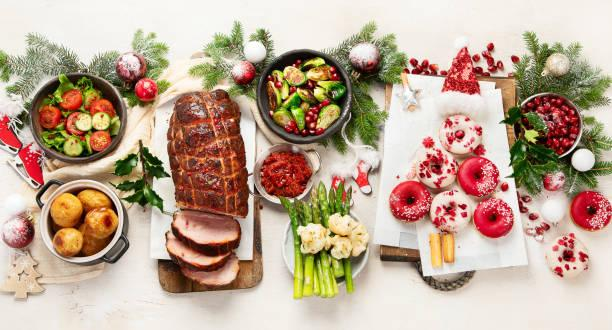Braised Crucian Carp: (375, 74, 524, 278), (149, 94, 253, 261), (256, 49, 353, 144), (28, 73, 126, 163), (35, 177, 129, 265), (281, 208, 369, 281), (251, 142, 320, 205)
